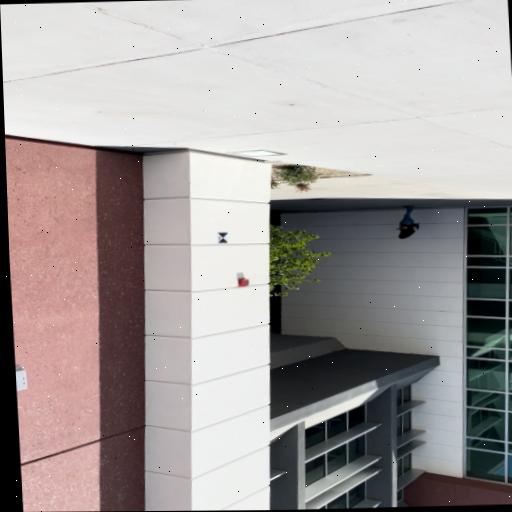target2: (217, 232, 229, 243)
